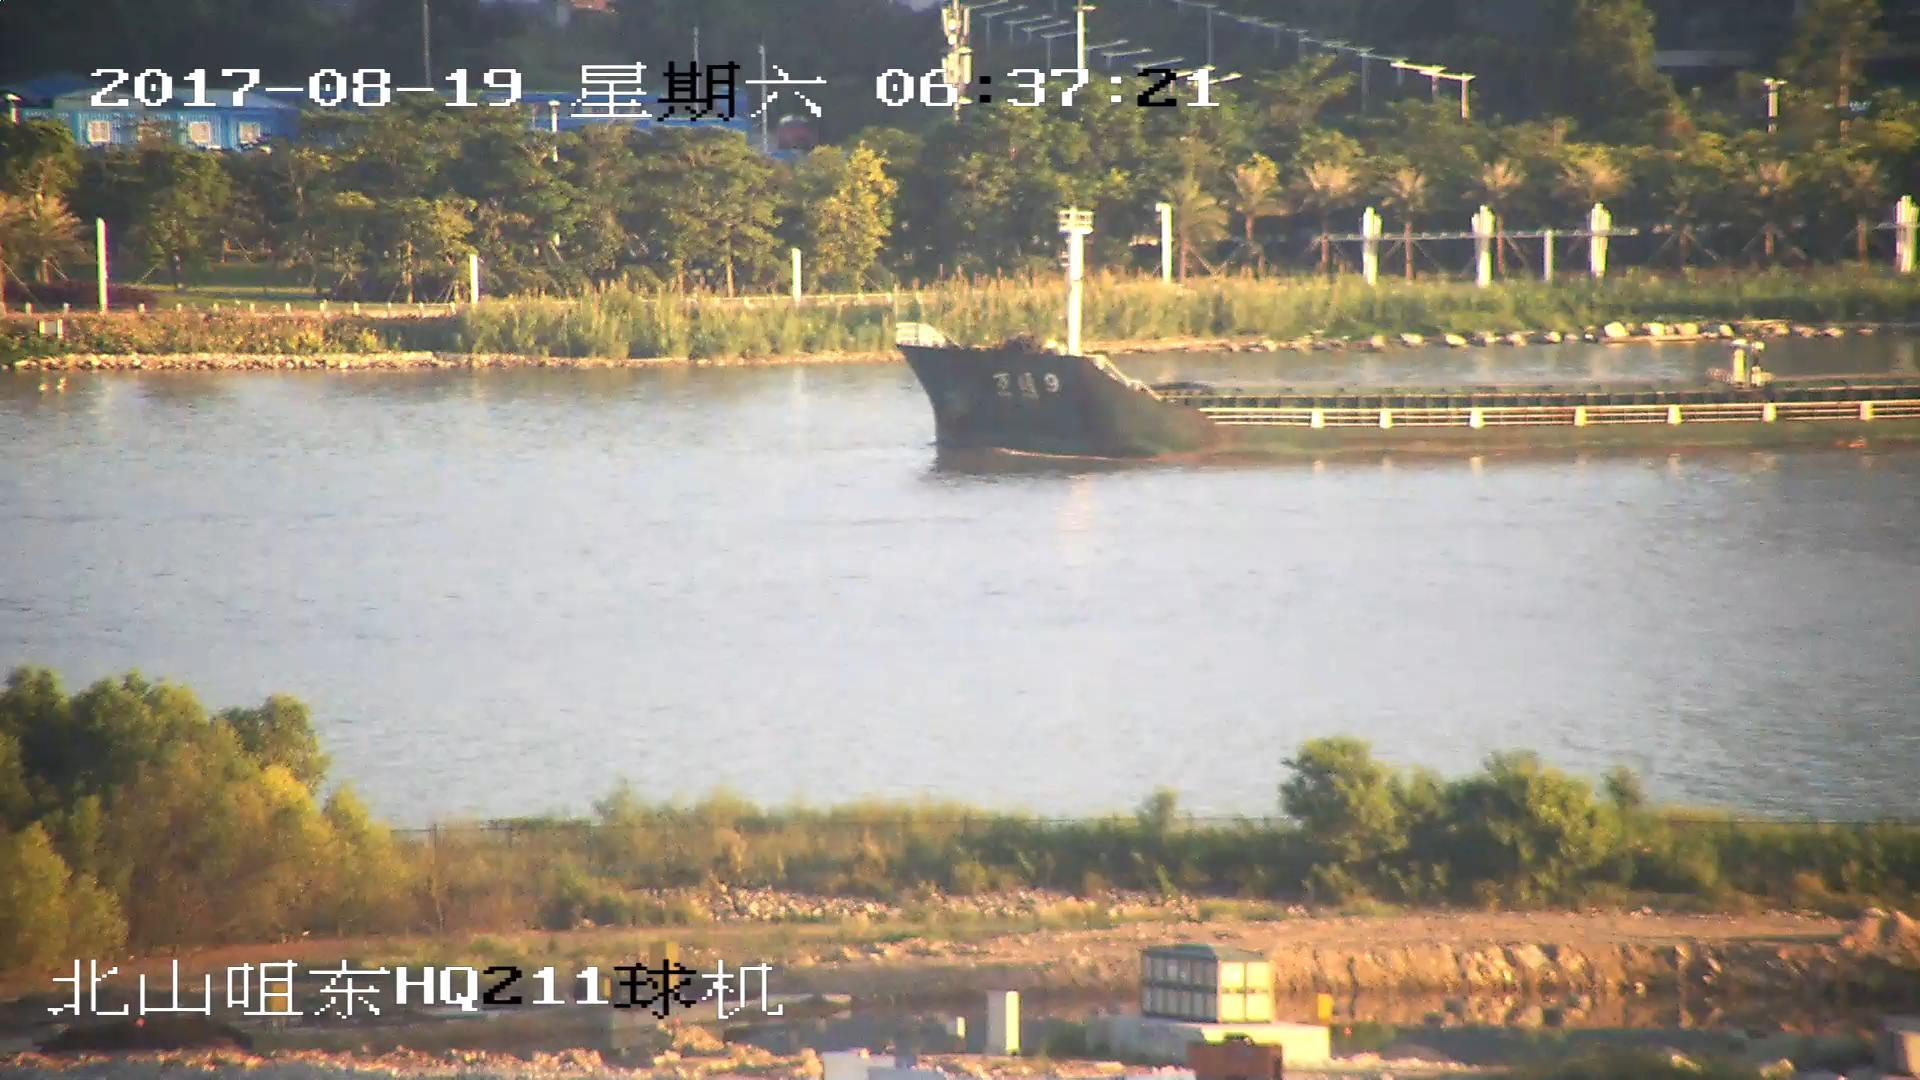Ship: (891, 219, 1920, 456)
